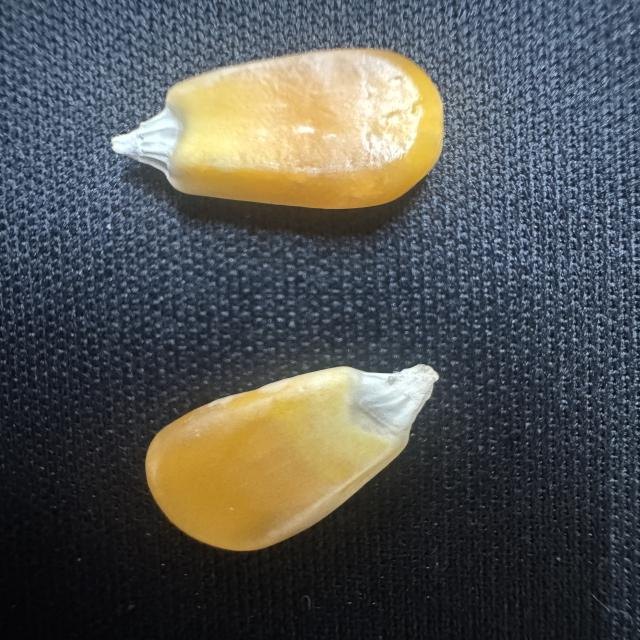Good-Seed: (91, 40, 455, 224), (138, 356, 440, 554)
